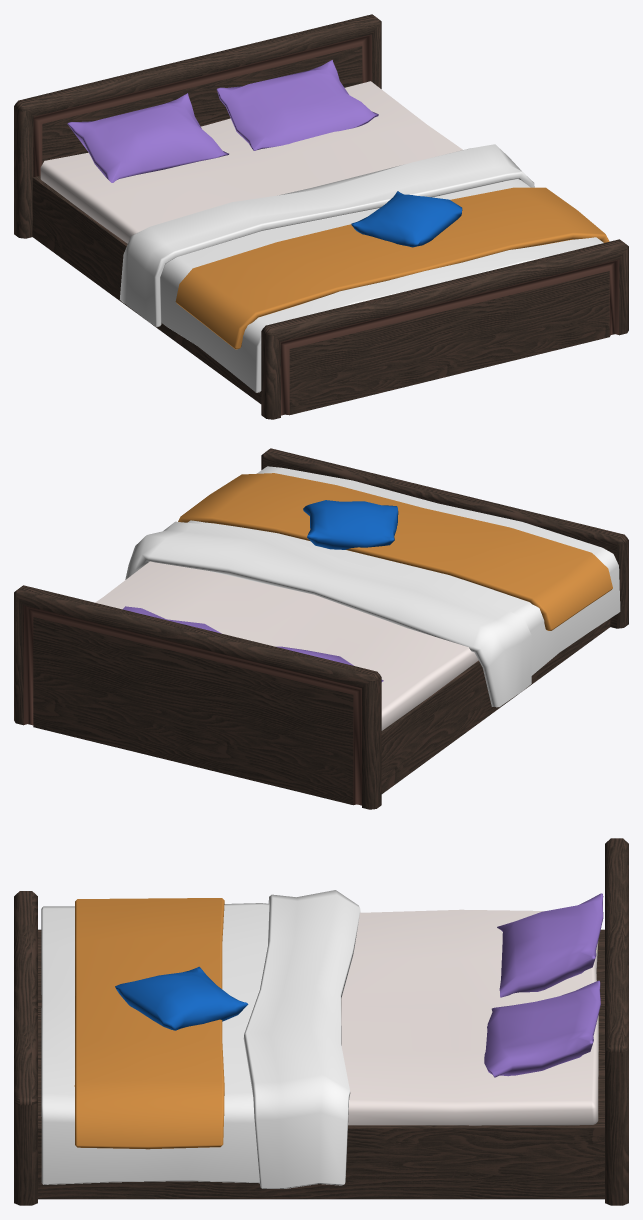
The model's file is bed_023.fbx.
3 views of the same model, one above another, from view 1: azimuth 30°, elevation 25°; view 2: azimuth 150°, elevation 25°; view 3: azimuth 270°, elevation 25° (orthographic). The views are drawn at different scales.
Parts seen in each view (by area): view 1: bed_023; view 2: bed_023; view 3: bed_023.
Boxes of the visible parts, left/top/right/bottom form: bed_023: left=14, top=14, right=628, bottom=419; bed_023: left=14, top=448, right=628, bottom=809; bed_023: left=14, top=838, right=628, bottom=1205.
Bounding box in the file's own units: 271 × 310 × 88.16.
